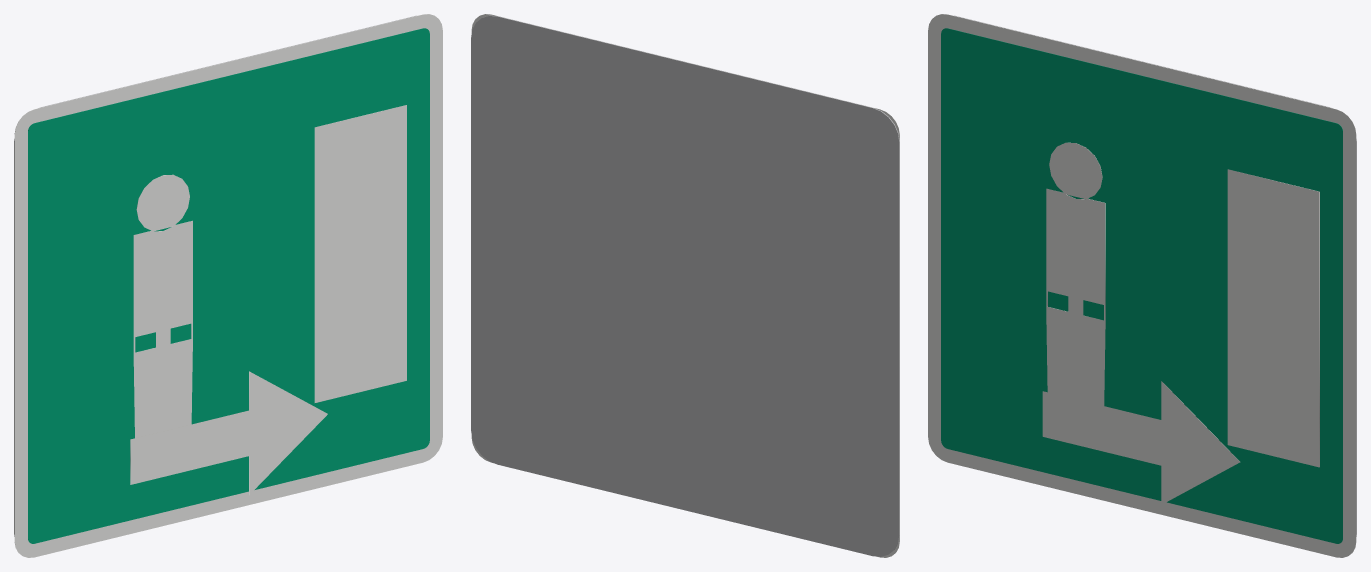
3 renders of one model, left to right at view 1: azimuth 30°, elevation 25°; view 2: azimuth 150°, elevation 25°; view 3: azimuth 330°, elevation 25°, orthographic.
Visible parts, largest first — view 1: CE30_r01, CE30_p02, CE30_r00, CE30_s03, CE30_p04, CE30_dos; view 2: CE30_dos, CE30_r00; view 3: CE30_r01, CE30_p02, CE30_r00, CE30_s03, CE30_p04, CE30_dos.
Part boxes in pixels (x1=…): CE30_r01: x1=28, y1=28, x2=429, y2=543; CE30_p02: x1=314, y1=105, x2=406, y2=402; CE30_r00: x1=14, y1=14, x2=442, y2=557; CE30_s03: x1=133, y1=174, x2=192, y2=438; CE30_p04: x1=130, y1=371, x2=327, y2=494; CE30_dos: x1=14, y1=15, x2=416, y2=536; CE30_dos: x1=471, y1=15, x2=899, y2=556; CE30_r00: x1=471, y1=14, x2=899, y2=557; CE30_r01: x1=941, y1=28, x2=1342, y2=543; CE30_p02: x1=1227, y1=169, x2=1319, y2=467; CE30_r00: x1=928, y1=14, x2=1356, y2=557; CE30_s03: x1=1046, y1=142, x2=1105, y2=405; CE30_p04: x1=1042, y1=381, x2=1240, y2=504; CE30_dos: x1=954, y1=15, x2=1356, y2=536.
Bounding box in the file's own units: 0.65 × 0.65 × 0.0033.
